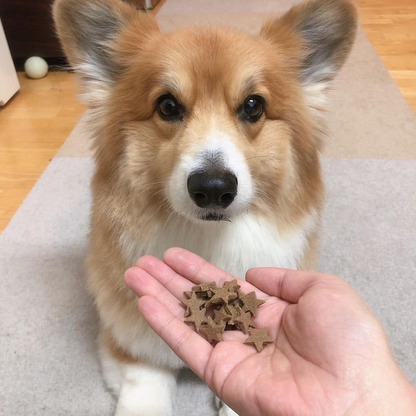Corgi: (52, 12, 359, 370)
